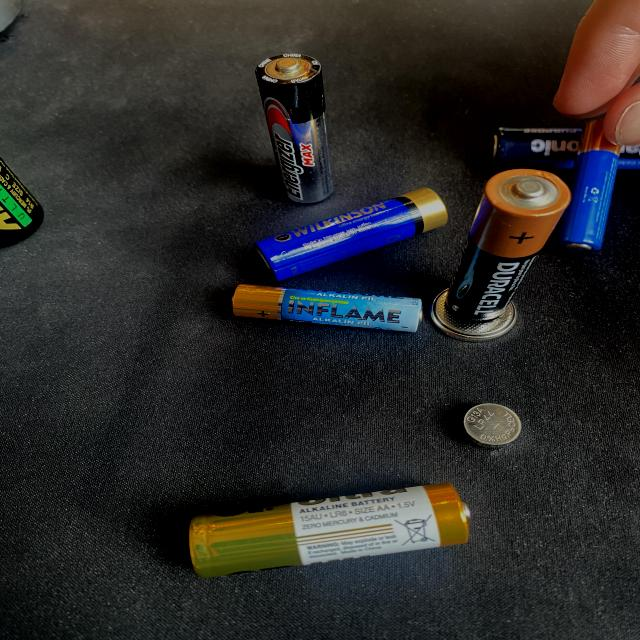AA: (185, 479, 475, 581), (443, 166, 575, 324), (250, 185, 450, 283), (253, 51, 338, 205)
AAA: (229, 280, 425, 334), (556, 116, 621, 255)
COIN: (461, 402, 524, 450)
